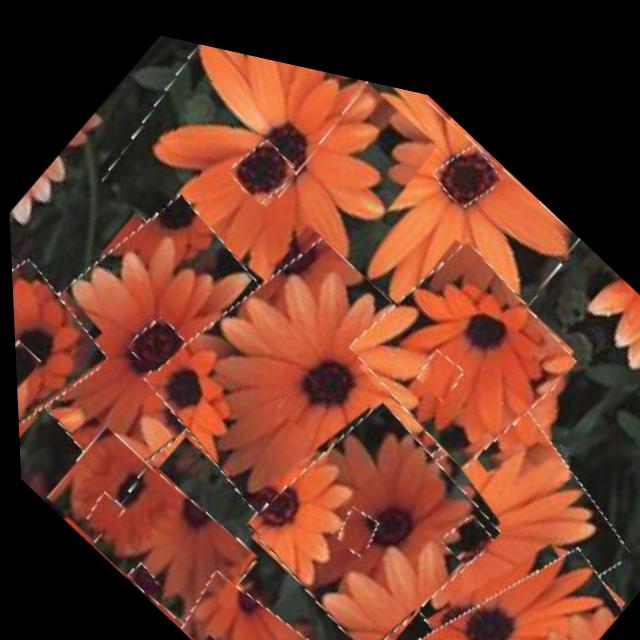Flower: (125, 162, 498, 599), (84, 15, 455, 365), (5, 143, 308, 532), (268, 47, 587, 377), (331, 331, 640, 640), (234, 354, 506, 640), (339, 193, 584, 478), (390, 465, 630, 640), (78, 443, 260, 640), (37, 411, 194, 589), (9, 246, 114, 468), (166, 545, 313, 640), (428, 112, 505, 202), (224, 117, 300, 206), (122, 301, 187, 377), (271, 355, 334, 430), (434, 487, 492, 554), (411, 325, 465, 388), (328, 486, 380, 548), (77, 485, 122, 537), (494, 614, 561, 640), (12, 339, 41, 398), (121, 555, 157, 595), (194, 623, 222, 640)
